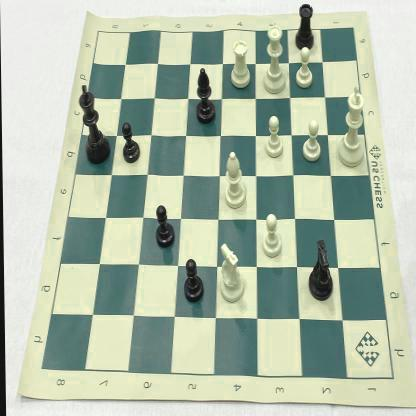black-bishop: (193, 64, 217, 128)
black-king: (74, 80, 112, 170)
black-knight: (304, 238, 336, 306)
black-pawn: (180, 255, 206, 306), (152, 198, 175, 252), (118, 121, 142, 166)
black-rook: (292, 0, 320, 52)
white-bishop: (222, 148, 248, 214)
white-king: (334, 84, 369, 171)
white-knight: (216, 237, 246, 308)
white-pawn: (258, 210, 284, 262), (298, 117, 324, 165), (260, 112, 284, 162), (294, 44, 315, 92)
white-queen: (259, 20, 289, 96)
white-rook: (228, 36, 252, 93)
